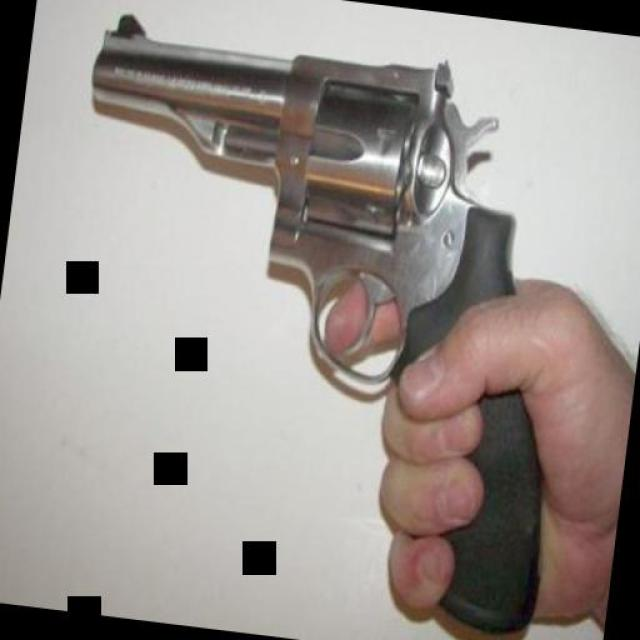gun: (32, 2, 602, 632)
